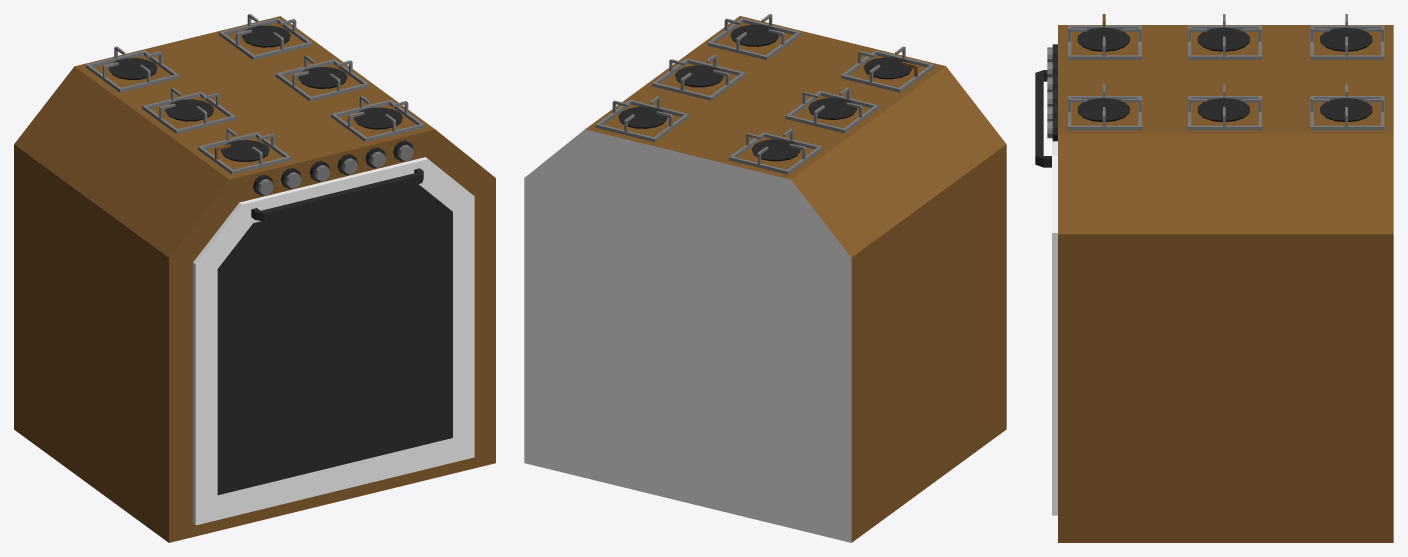
Rendered from Gas Cooker_1.fbx.
3 views of the same model, side by side, from view 1: azimuth 30°, elevation 25°; view 2: azimuth 150°, elevation 25°; view 3: azimuth 270°, elevation 25° (orthographic). The views are drawn at different scales.
Parts seen in each view (by area): view 1: Gas Cooker_1, Gas Cooker_1 Door; view 2: Gas Cooker_1; view 3: Gas Cooker_1, Gas Cooker_1 Door.
Boxes of the visible parts, <box> form: Gas Cooker_1: <box>14,14,495,542</box>; Gas Cooker_1 Door: <box>193,157,474,525</box>; Gas Cooker_1: <box>524,14,1006,542</box>; Gas Cooker_1: <box>1047,14,1393,542</box>; Gas Cooker_1 Door: <box>1035,70,1057,515</box>.
Size of the model in its own units: 0.7996 by 0.8477 by 0.7008.
